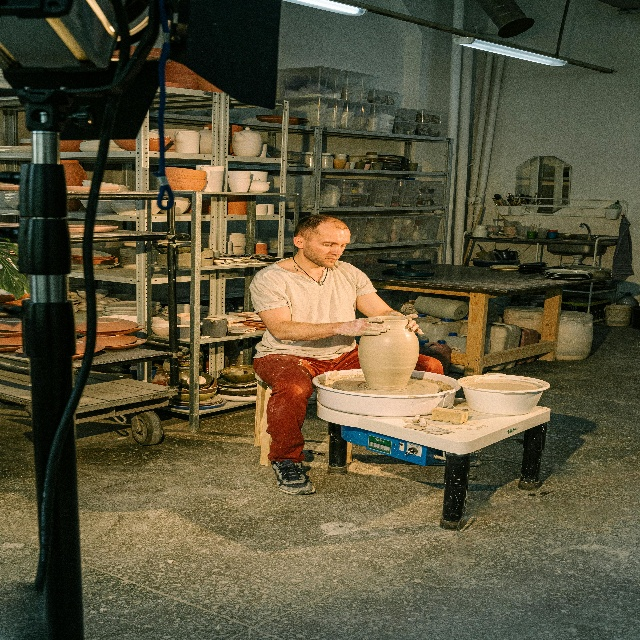Sin_guantes: (341, 316, 390, 336), (403, 313, 423, 335)
